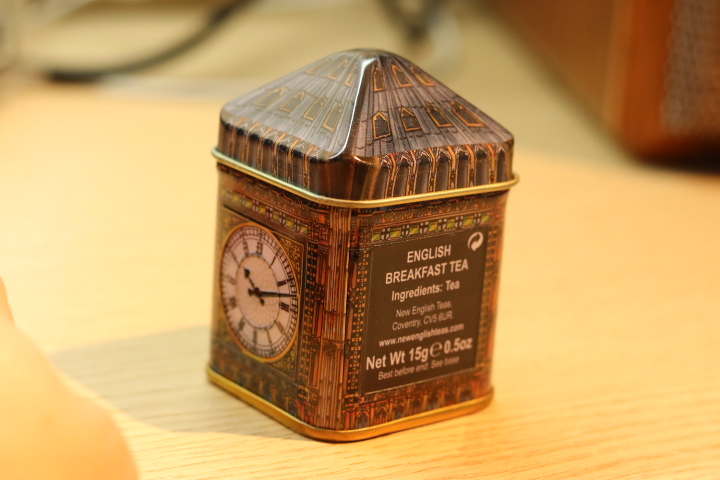Big Ben: (192, 32, 532, 459)
